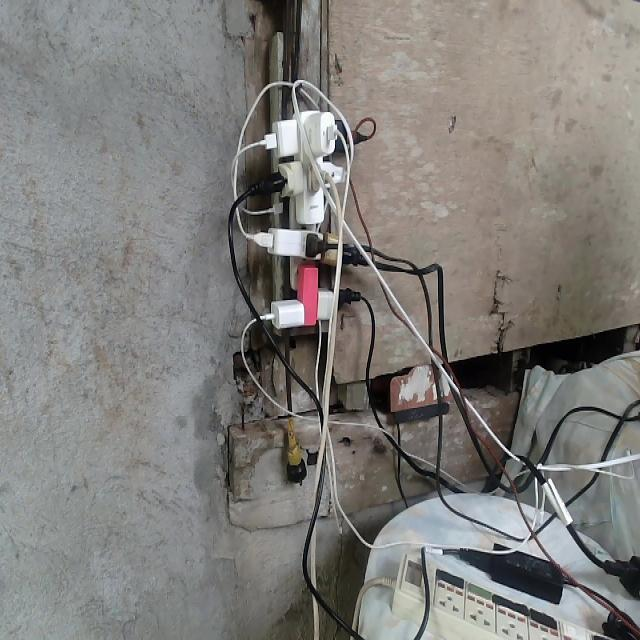-: (227, 77, 376, 327)
